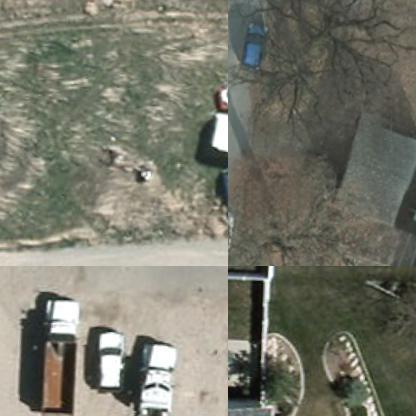camping car: (209, 104, 227, 163)
car: (96, 324, 130, 394), (238, 20, 274, 73), (228, 208, 244, 265)
truck: (30, 293, 97, 415), (113, 330, 194, 415)
